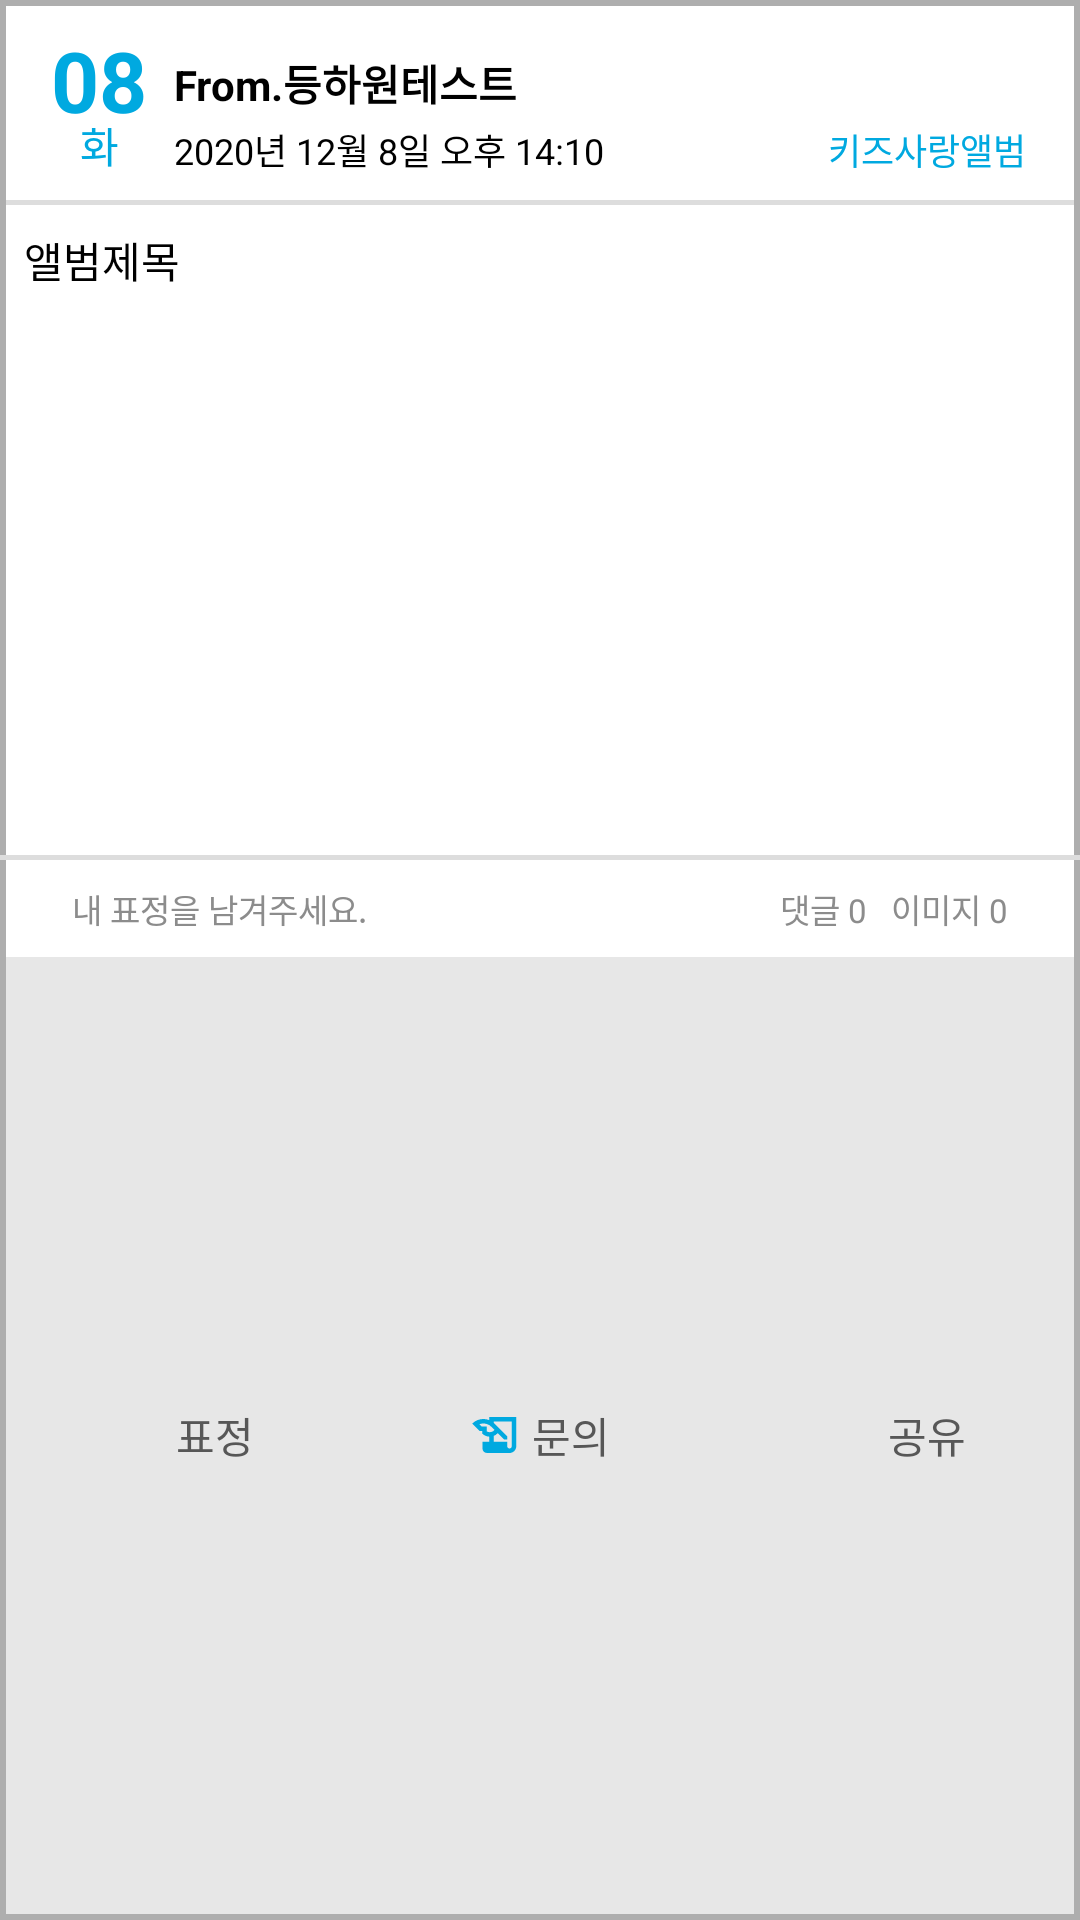

Where to tap for icons on this 1080 x 1920 app screen, as (x=x, y=y):
history edu: (x=494, y=1435)
